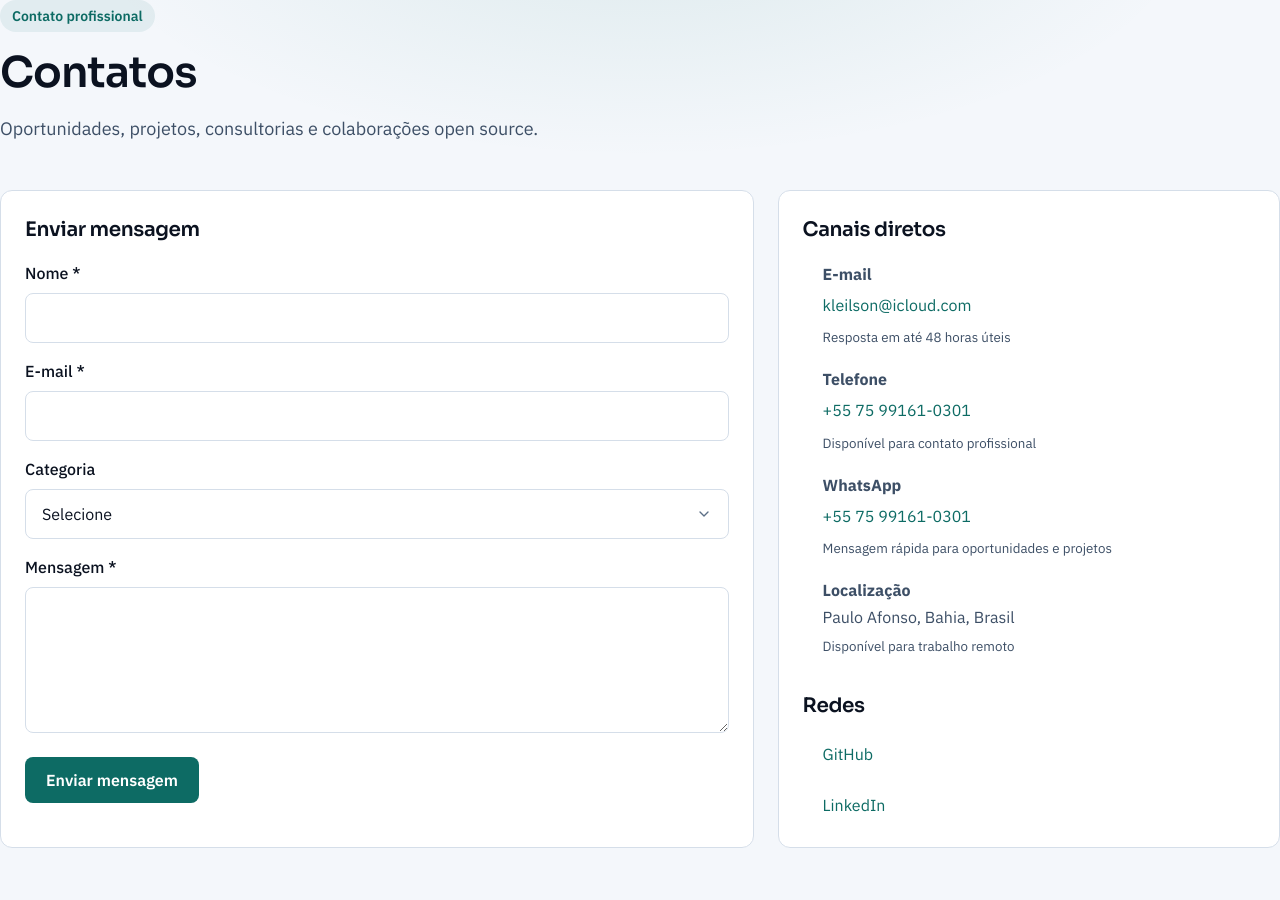
Contatos › associa erros de validação com aria-invalid e describedby
Click the button "Enviar mensagem". click: (112, 780)
box: left=25, top=757, right=199, bottom=803
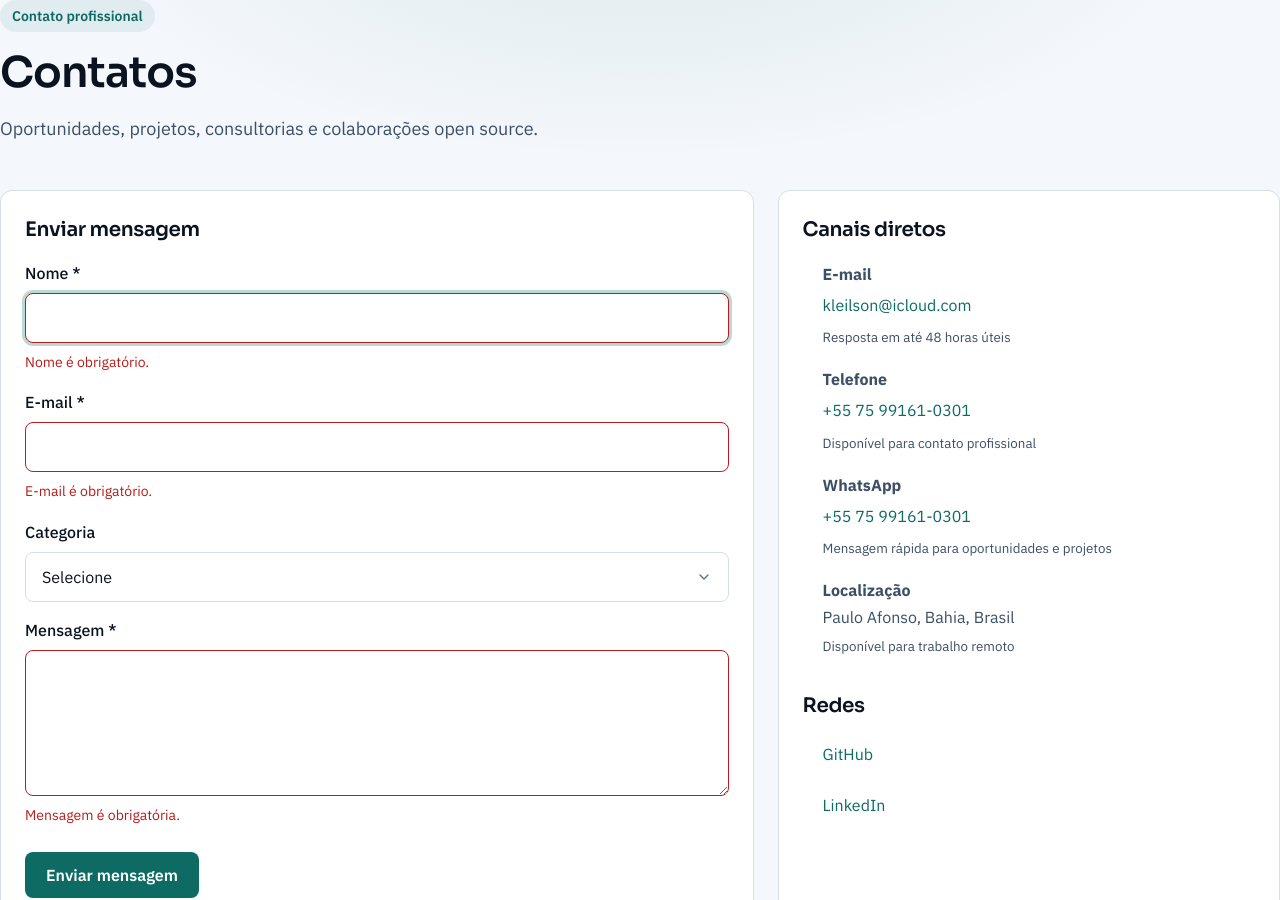
Result: the text "Nome é obrigatório." is shown at left=25, top=353, right=149, bottom=371
